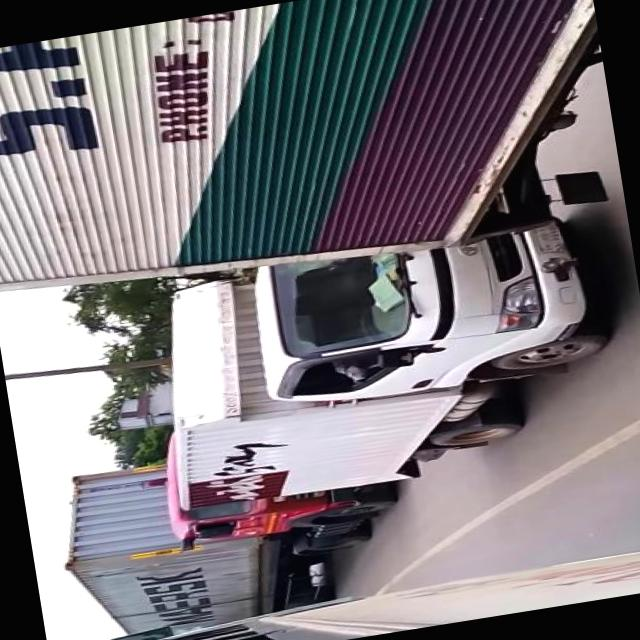bus: (47, 539, 640, 640)
truck: (135, 212, 628, 518), (44, 396, 417, 640)
